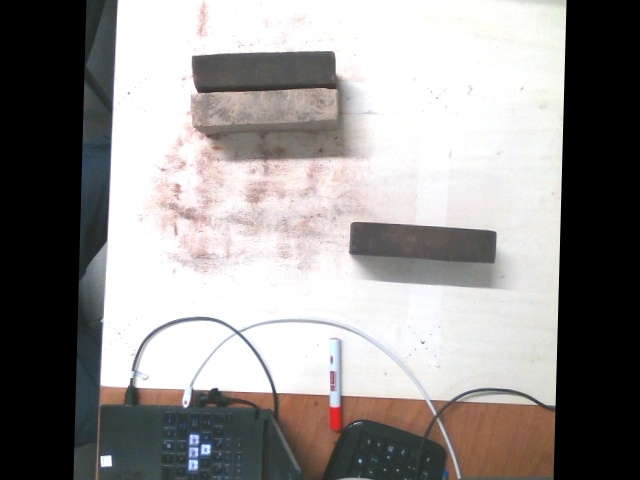brick-side: (350, 223, 495, 260), (195, 48, 337, 84), (192, 88, 334, 123)
